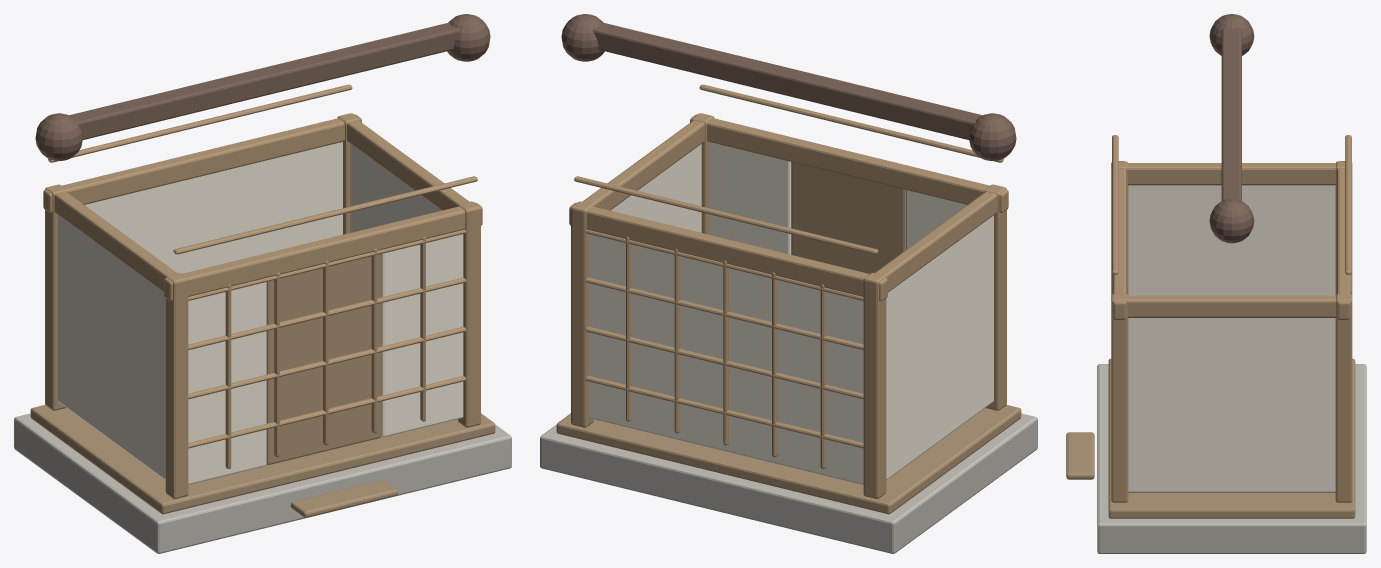
Rendered from kominka_b.glb.
The picture shows the model from 3 angles, left to right: view 1: azimuth 30°, elevation 25°; view 2: azimuth 150°, elevation 25°; view 3: azimuth 270°, elevation 25°; orthographic projection. The views are drawn at different scales.
Visible parts, largest first — view 1: Kominka_B; view 2: Kominka_B; view 3: Kominka_B.
Boxes of the visible parts, x1,y1,x2,y2 form: Kominka_B: (14, 14, 511, 553); Kominka_B: (540, 14, 1037, 553); Kominka_B: (1066, 14, 1366, 553).
Size of the model in its own units: 4.3 by 3.6 by 2.68.
